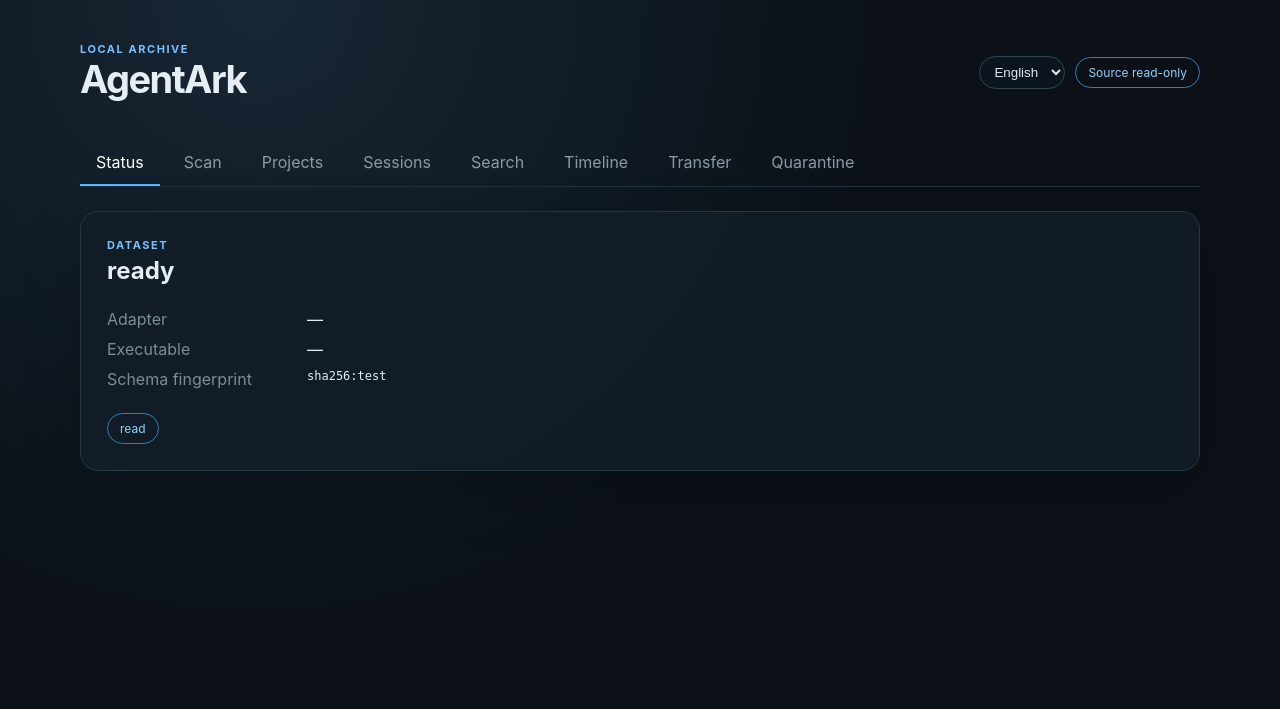
transfer reports unresolved original source provenance without raw content
The width and height of the screenshot is (1280, 709).
Expected: the heading "ready" is shown, [107,256,174,285]
Click the button "Transfer": (700, 163) [652,140,747,186]
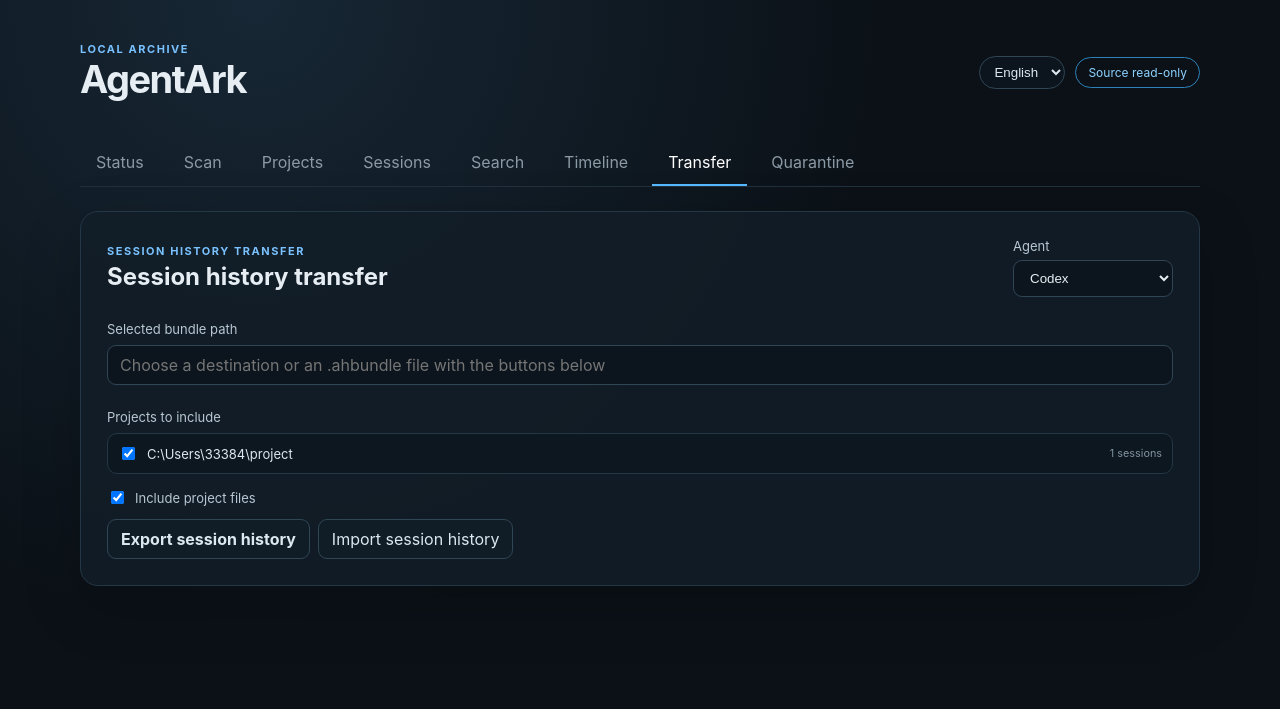
Click the button "Import session history": (416, 539) [318,519,513,559]
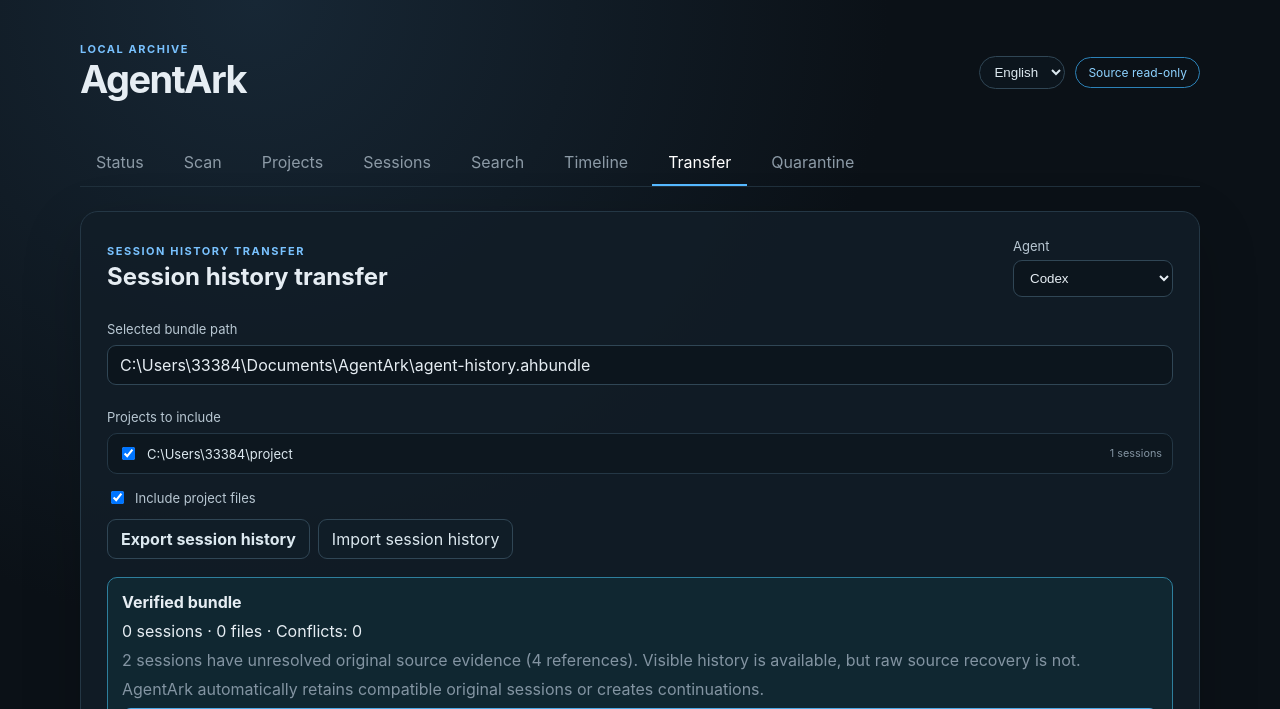
Expected: the text "2 sessions have unresolved original source evidence (4 references)" is shown, [122,650,1081,670]
